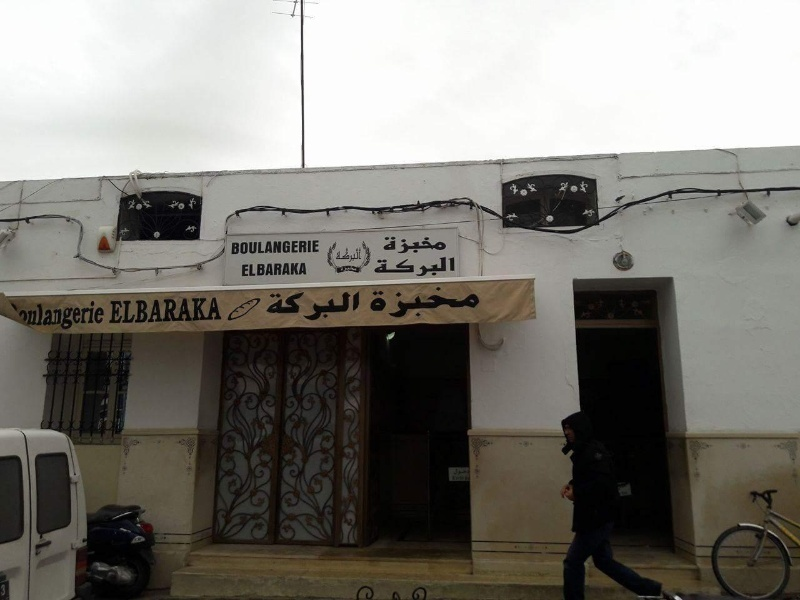text: (385, 284, 400, 322), (401, 284, 416, 322), (417, 284, 432, 322), (433, 284, 448, 322), (449, 284, 464, 322), (465, 284, 480, 322), (273, 289, 288, 324), (289, 289, 304, 324), (305, 289, 320, 324), (321, 289, 336, 324), (337, 289, 352, 324), (33, 299, 48, 331), (49, 299, 64, 331), (65, 299, 80, 331), (81, 299, 96, 331), (372, 284, 384, 322), (113, 297, 128, 326), (129, 297, 144, 326), (145, 297, 160, 326), (161, 297, 176, 326), (177, 297, 192, 326), (193, 297, 208, 326), (209, 297, 224, 326), (19, 299, 32, 331), (385, 256, 400, 279), (401, 256, 416, 279), (417, 256, 432, 279), (433, 256, 448, 279), (385, 234, 400, 257), (401, 234, 416, 257), (417, 234, 432, 257), (433, 234, 447, 257), (97, 299, 107, 331), (353, 289, 361, 324), (305, 239, 321, 256), (241, 239, 256, 256), (257, 239, 272, 256), (273, 239, 288, 256), (289, 239, 304, 256), (337, 247, 352, 264), (374, 256, 384, 279), (257, 262, 272, 277), (273, 262, 288, 277), (289, 262, 304, 277), (241, 264, 256, 278), (449, 256, 457, 279), (353, 247, 362, 264), (232, 239, 240, 256), (269, 289, 272, 324), (452, 468, 464, 476), (109, 297, 112, 326), (450, 476, 464, 482), (340, 265, 352, 272), (465, 468, 471, 476), (465, 476, 473, 482), (481, 284, 482, 322), (305, 262, 307, 277), (353, 265, 357, 272), (383, 234, 384, 257)
